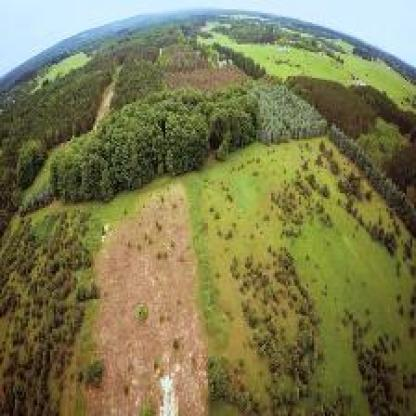other: (136, 355, 210, 409)
